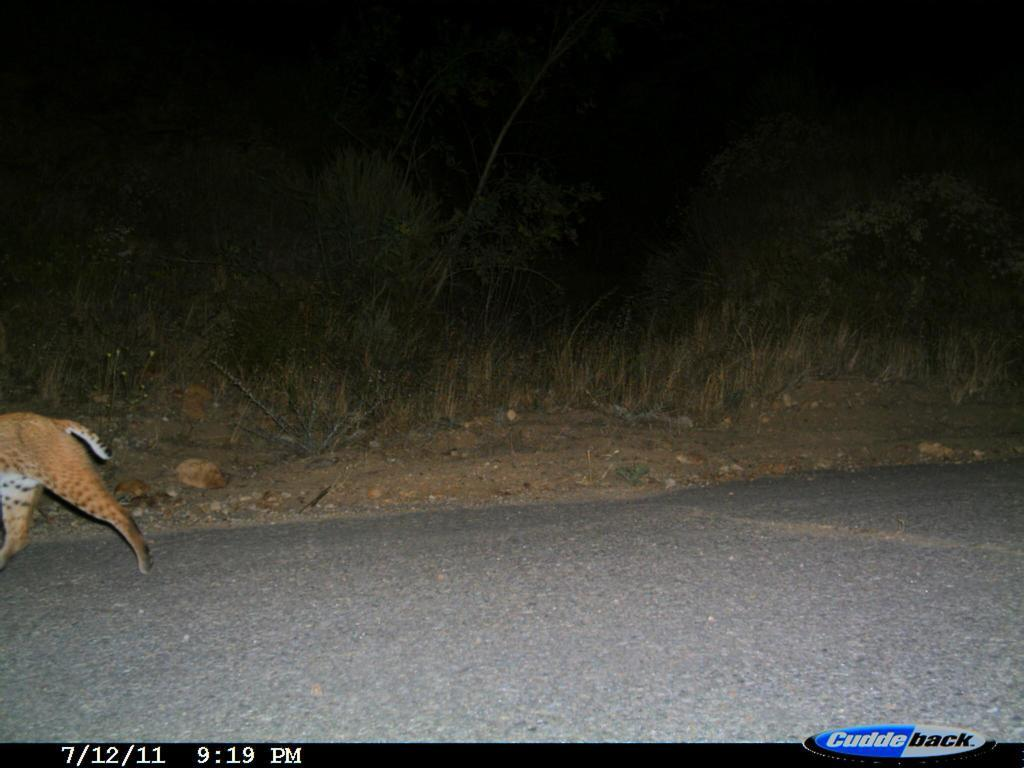bobcat: (2, 399, 164, 584)
